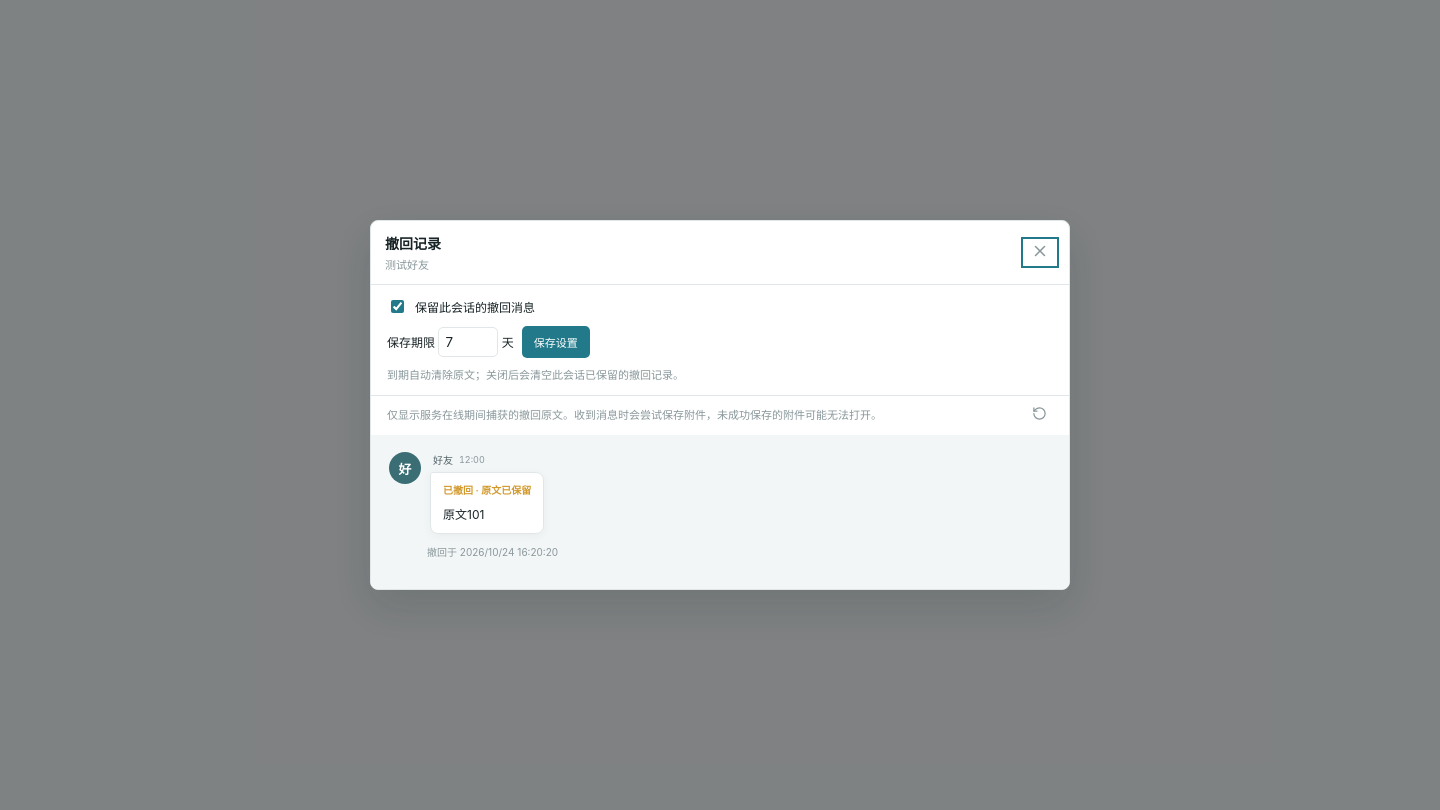
it: RecallArchiveDialog › saves the per-conversation setting and clears displayed originals on a remote disable
Click the checkbox labelled "保留此会话的撤回消息" at (398, 306), box x1=391 y1=300 x2=404 y2=313
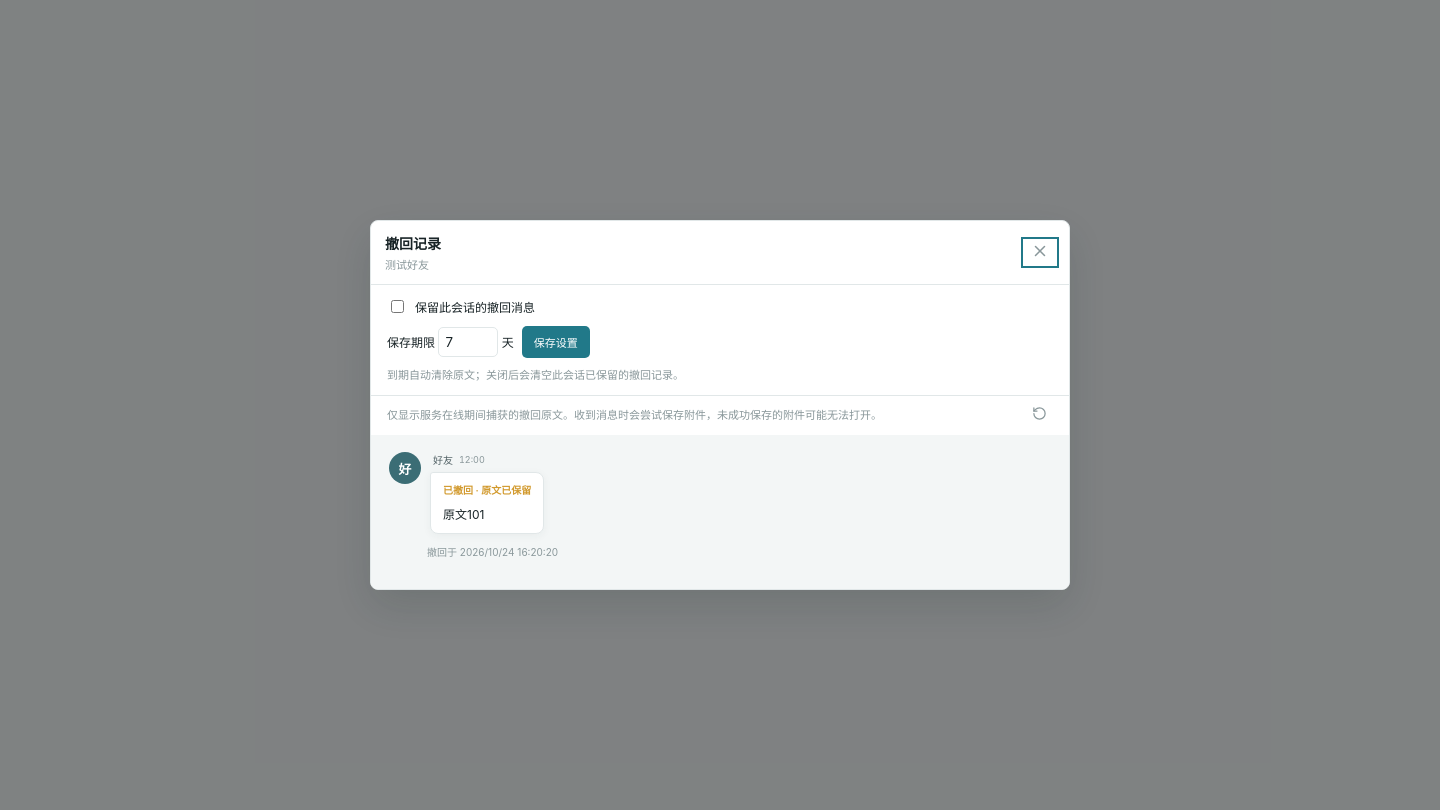
Replace the text in the number field labelled "保存期限 天" with "3" at (468, 342), box x1=438 y1=327 x2=498 y2=357
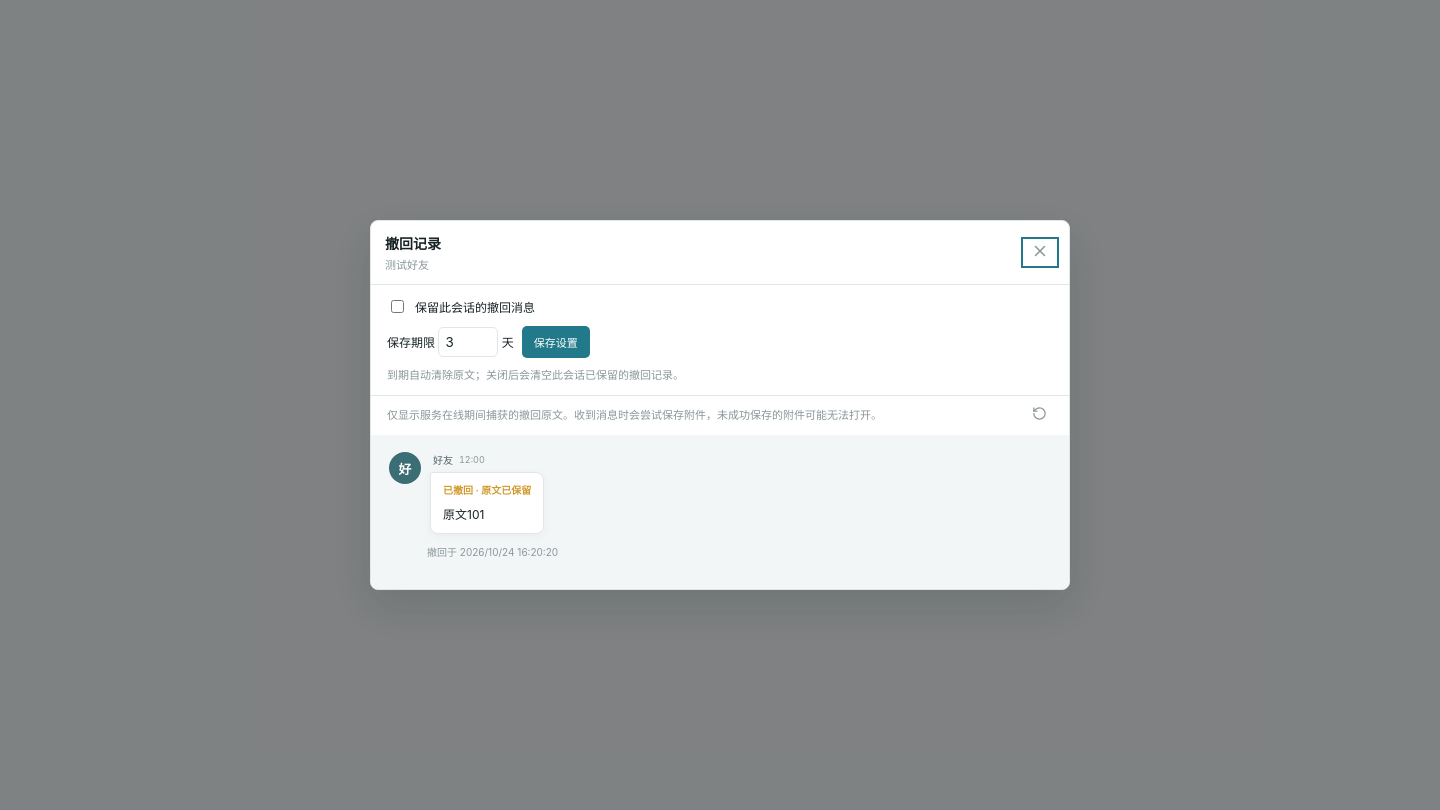
Submit the form, box x1=371 y1=285 x2=1069 y2=396
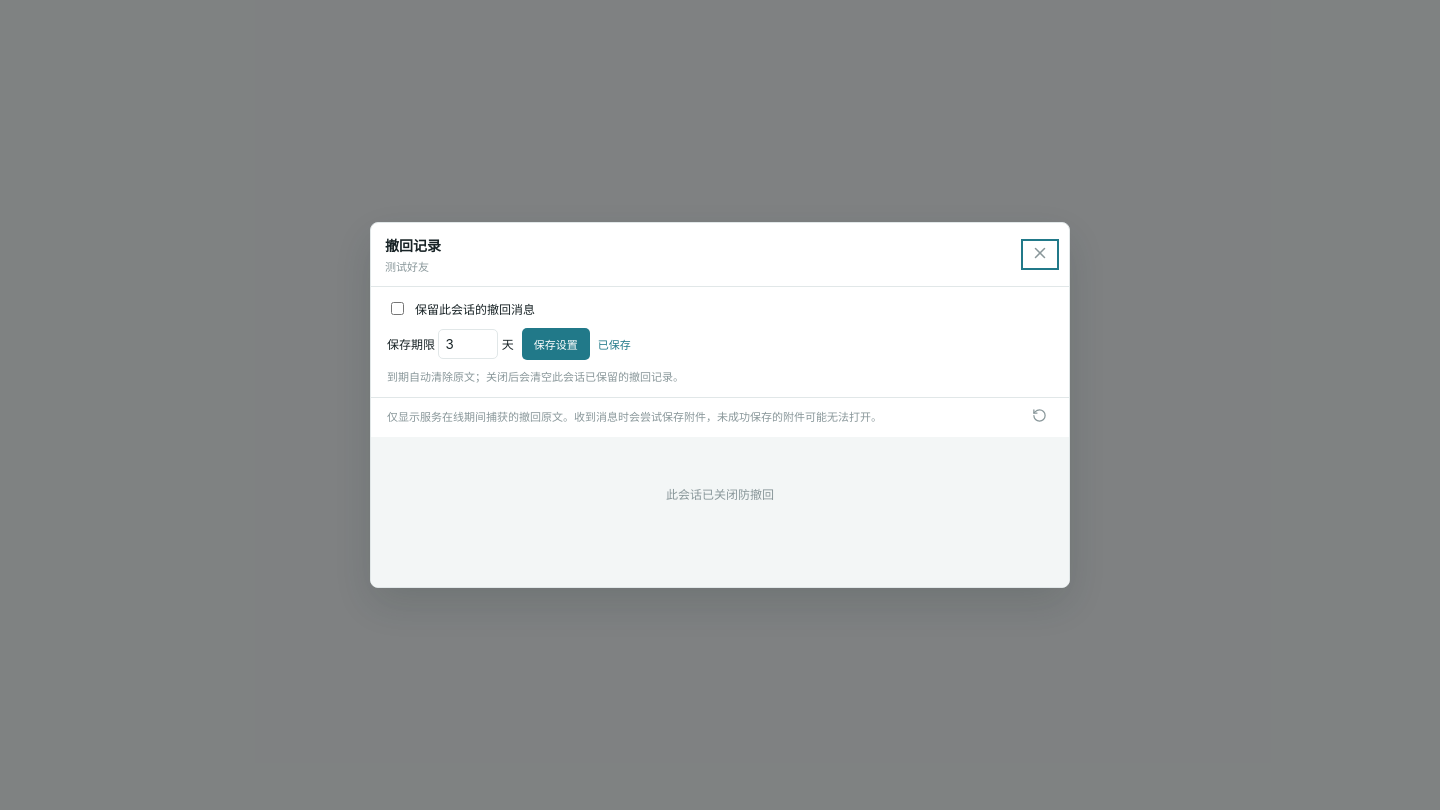
Expected: the text "原文101" is gone
Expected: the text "此会话已关闭防撤回" is shown, x1=666 y1=487 x2=774 y2=502
